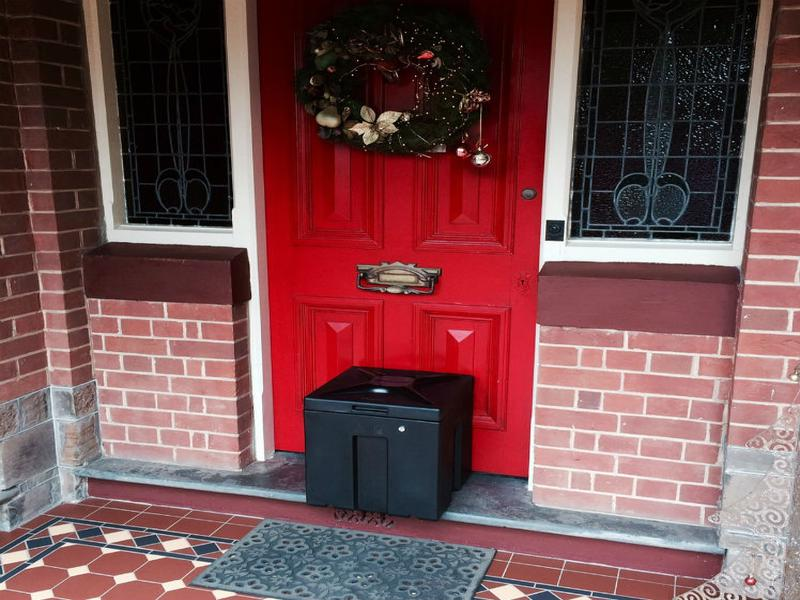package: (295, 360, 477, 529)
